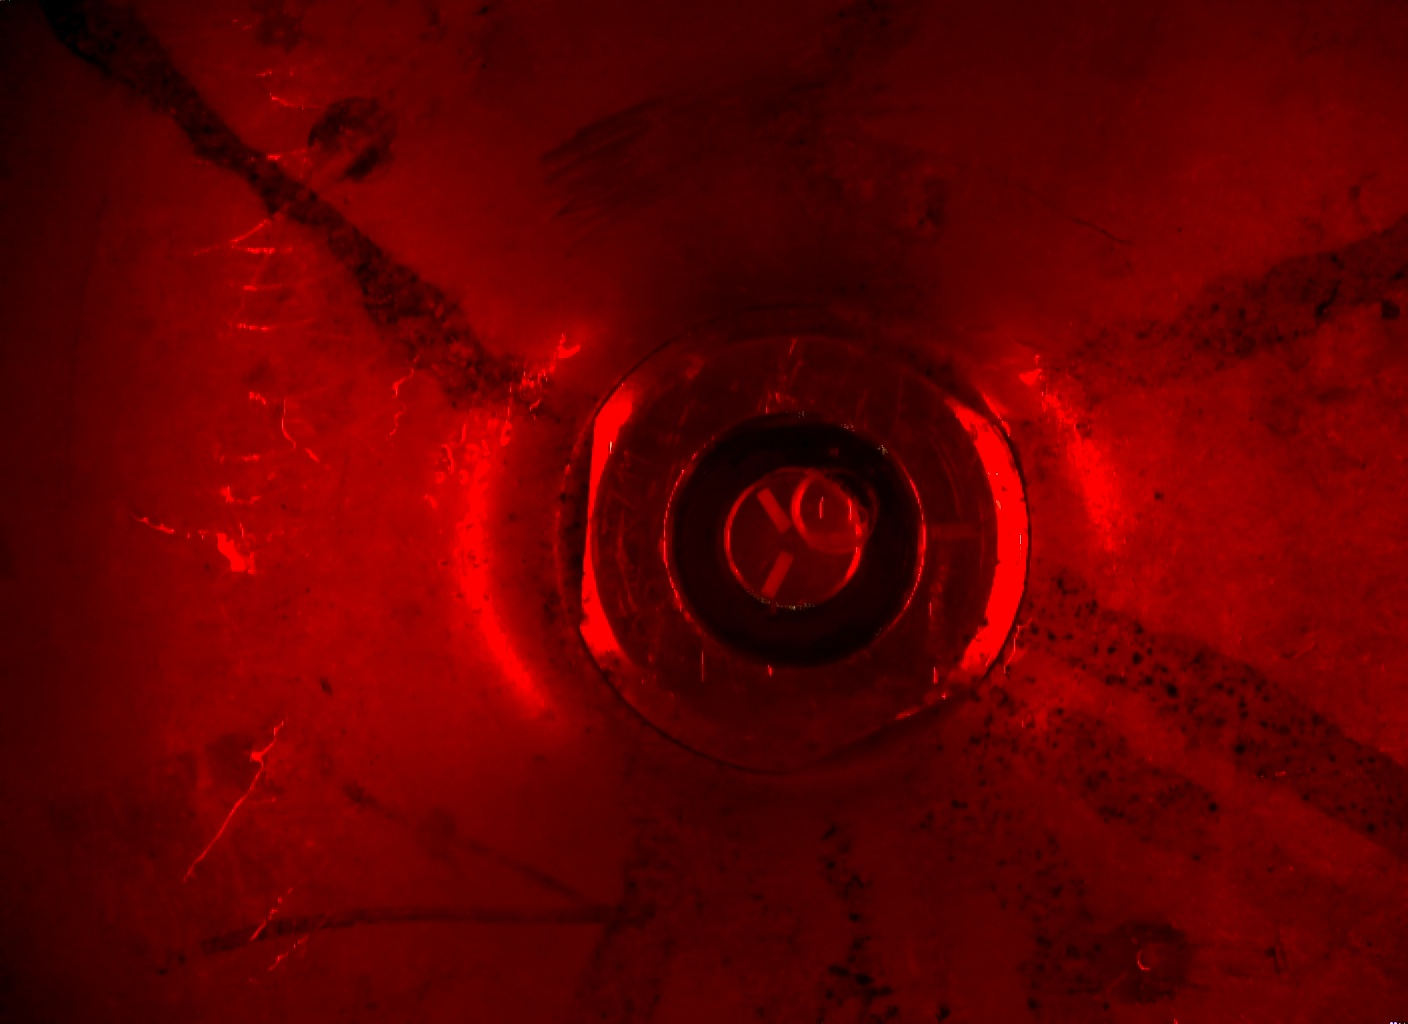pena: (791, 462, 885, 564)
